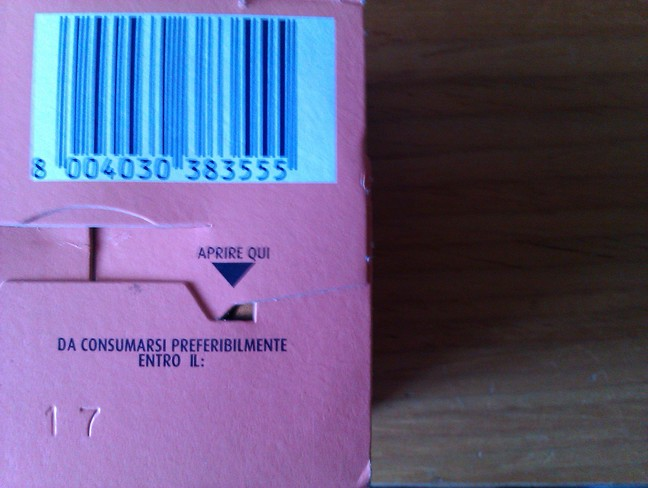detection: (31, 13, 335, 183)
